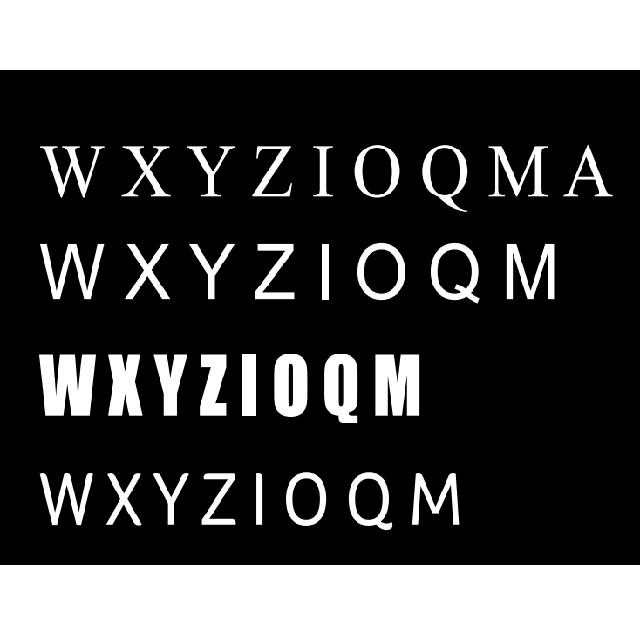0: (272, 352, 309, 418)
9: (420, 135, 470, 220)
W: (29, 241, 103, 305), (38, 134, 107, 200), (33, 468, 95, 530)
X: (123, 239, 172, 305), (122, 144, 175, 203), (107, 468, 145, 530)
Y: (185, 242, 232, 306), (184, 141, 232, 197), (153, 352, 190, 420), (152, 469, 192, 528)
Z: (252, 239, 298, 305), (253, 140, 294, 199), (198, 469, 238, 528)
